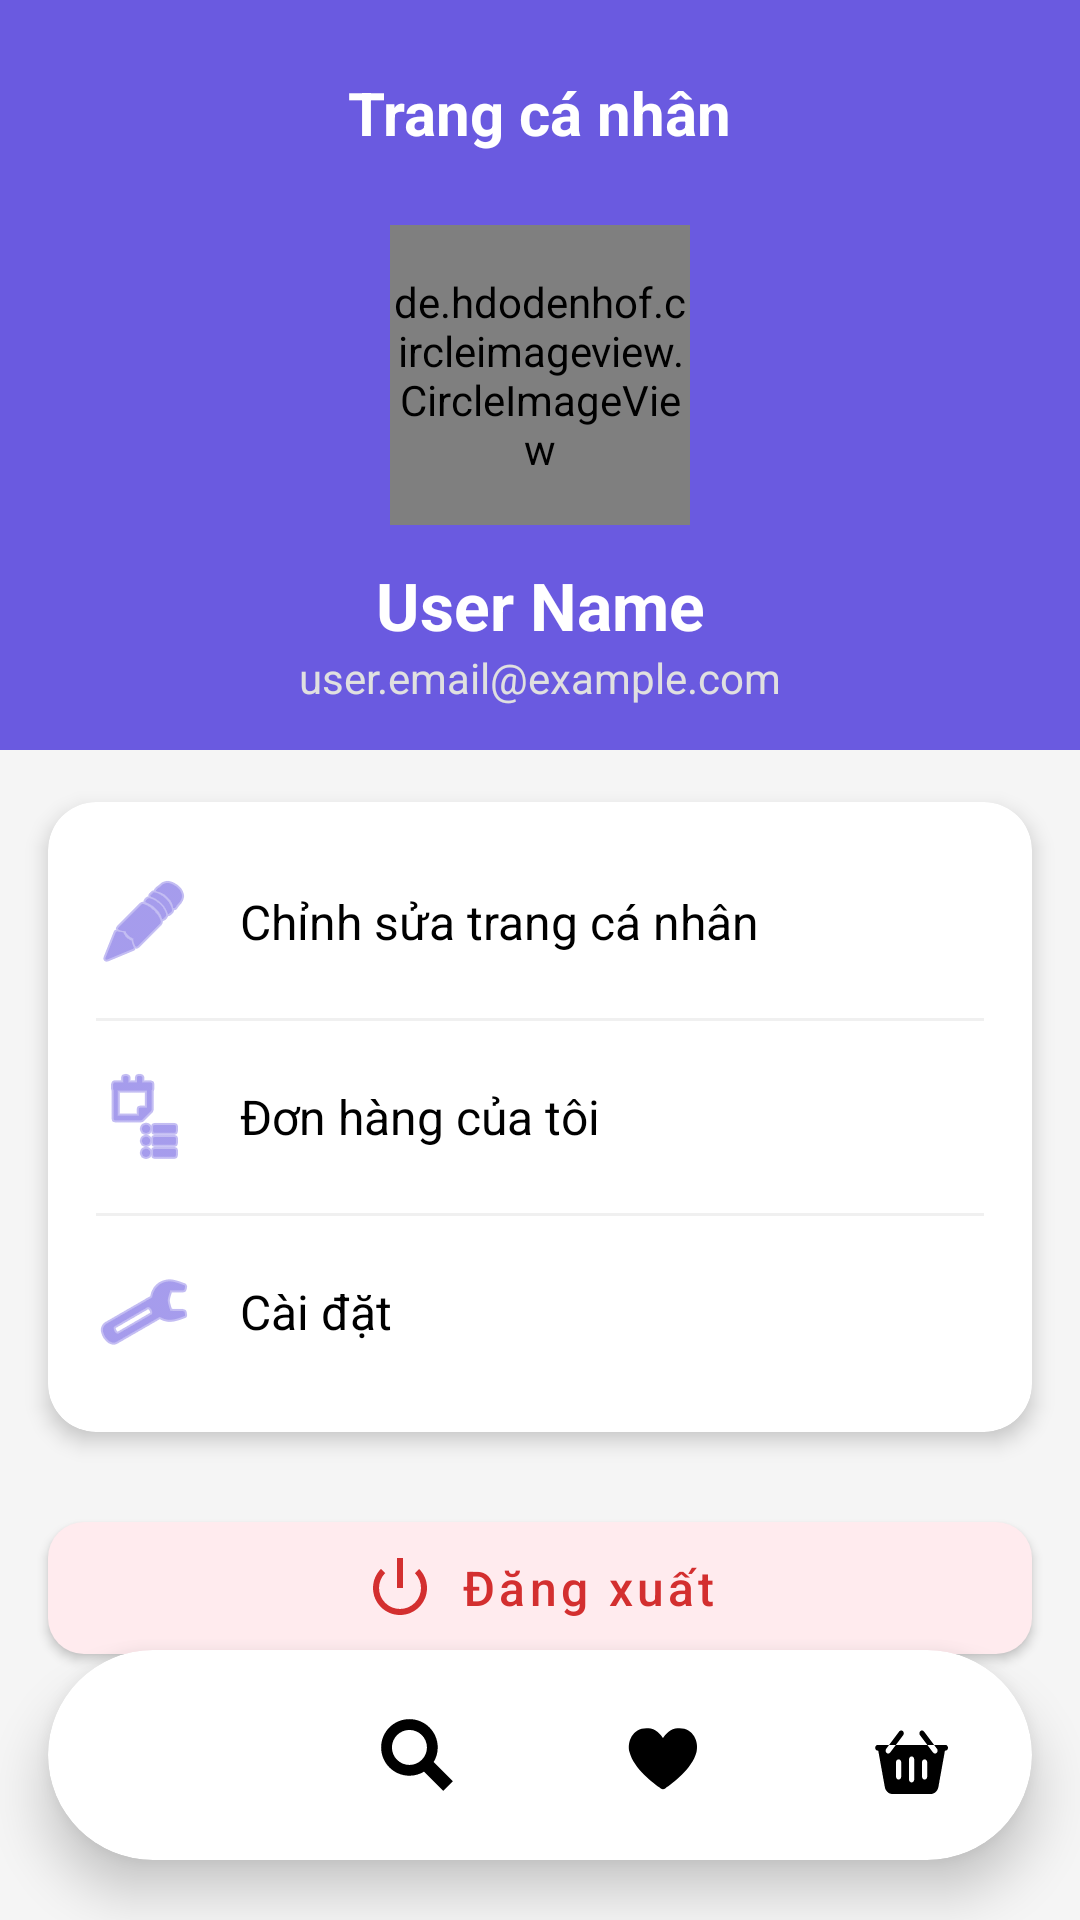

Named icons in this screenshot (1080w x 1920h) and their centers, (x,y):
Favorite: (662,1759)
Search: (417,1755)
